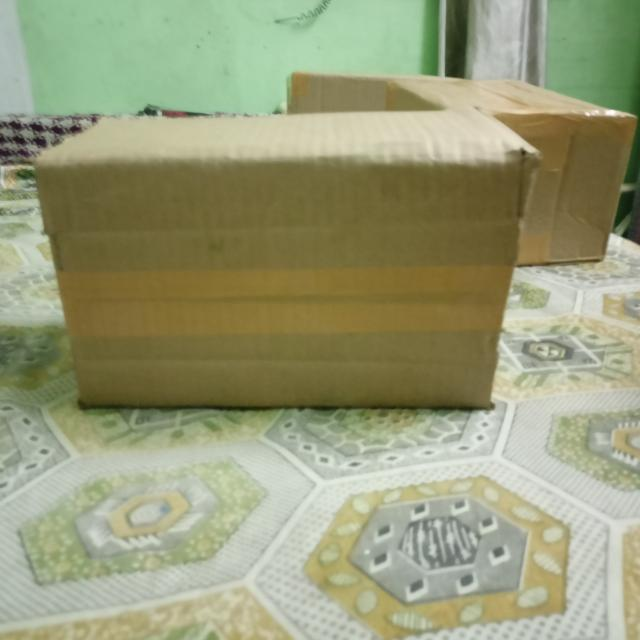box: (31, 162, 540, 413)
